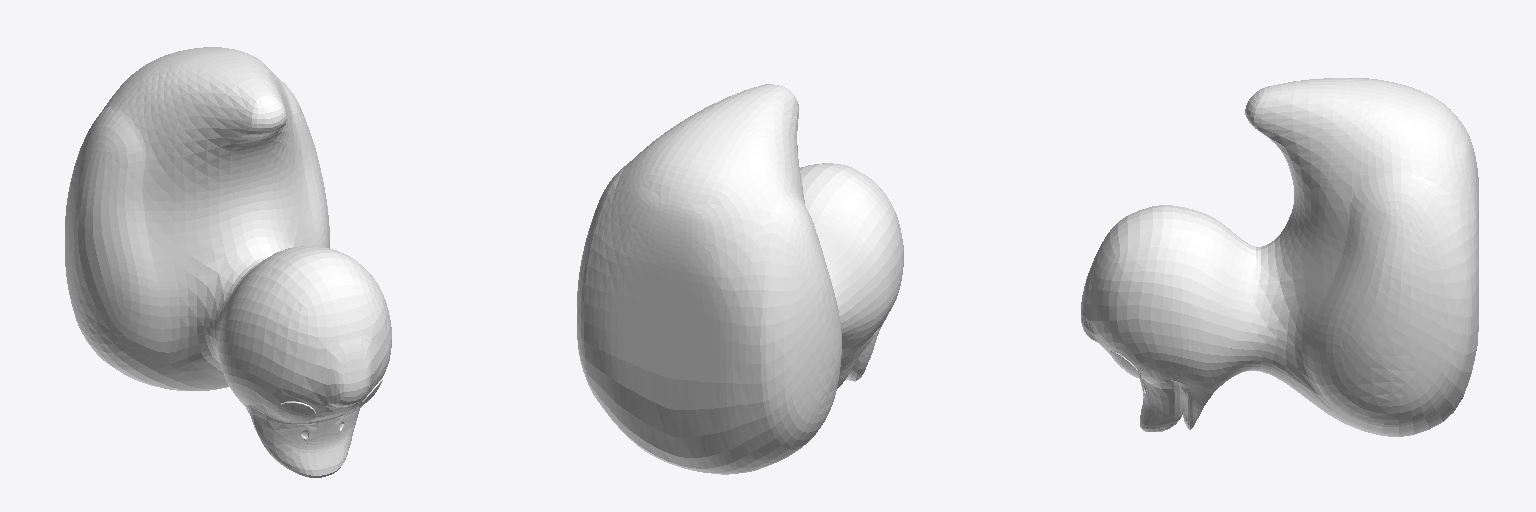
3 renders of one model, left to right at view 1: azimuth 30°, elevation 25°; view 2: azimuth 150°, elevation 25°; view 3: azimuth 270°, elevation 25°, orthographic.
Parts seen in each view (by area): view 1: Duck; view 2: Duck; view 3: Duck.
Part boxes in pixels (x1,y1,x2,y2): Duck: (65,47,391,477); Duck: (577,84,903,474); Duck: (1081,78,1478,436).
Bounding box in the file's own units: 12.69 × 17.42 × 18.42.
Materials: 1 (1 with a texture image).